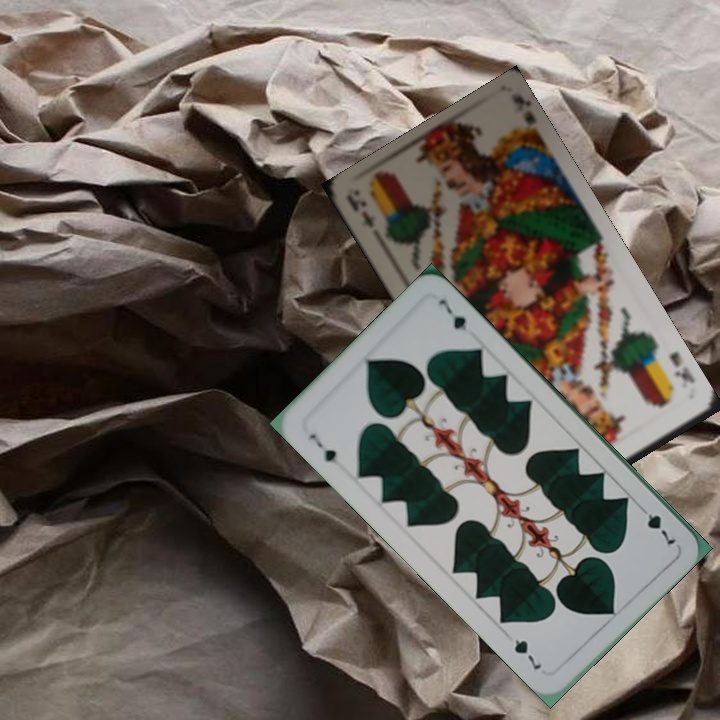EK: (665, 348, 698, 386), (344, 194, 377, 231)
G7: (634, 501, 679, 547), (305, 429, 339, 466)
